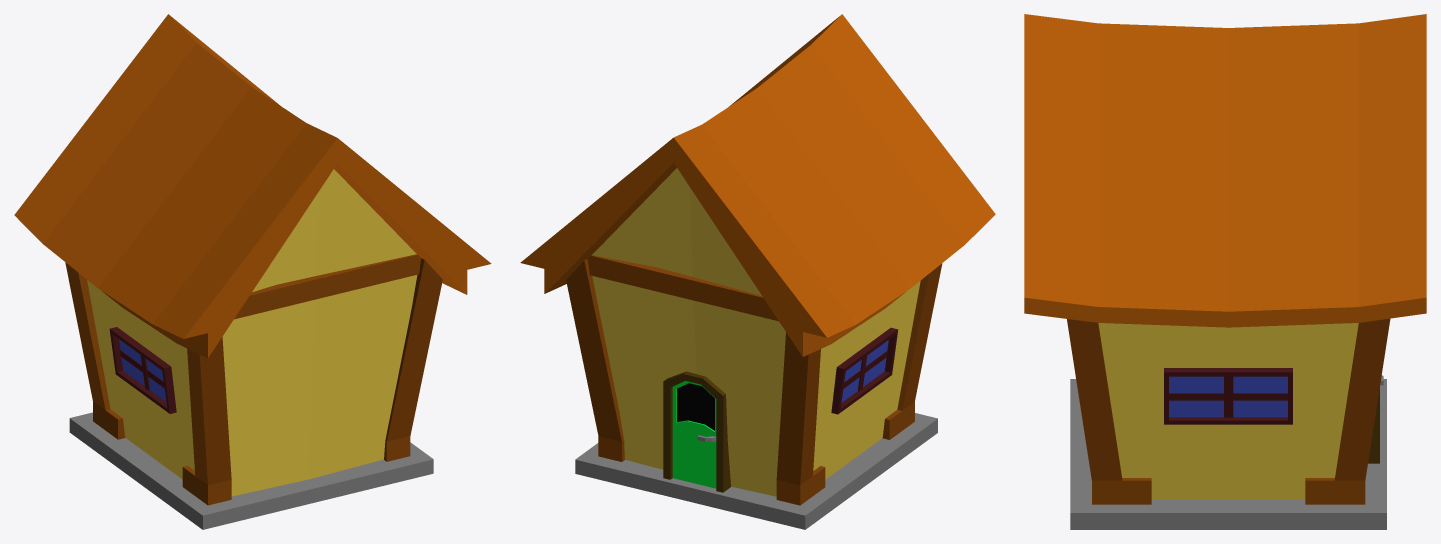
The model's file is CasaPequenaAmarenho.fbx.
3 views of the same model, side by side, from view 1: azimuth 30°, elevation 25°; view 2: azimuth 150°, elevation 25°; view 3: azimuth 270°, elevation 25° (orthographic). The views are drawn at different scales.
Parts seen in each view (by area): view 1: CasaPequenaAmarenho; view 2: CasaPequenaAmarenho; view 3: CasaPequenaAmarenho.
Part boxes in pixels (x1=…): CasaPequenaAmarenho: x1=14, y1=14, x2=491, y2=529; CasaPequenaAmarenho: x1=520, y1=14, x2=995, y2=529; CasaPequenaAmarenho: x1=1024, y1=14, x2=1426, y2=529.
Size of the model in its own units: 679 by 796 by 646.
